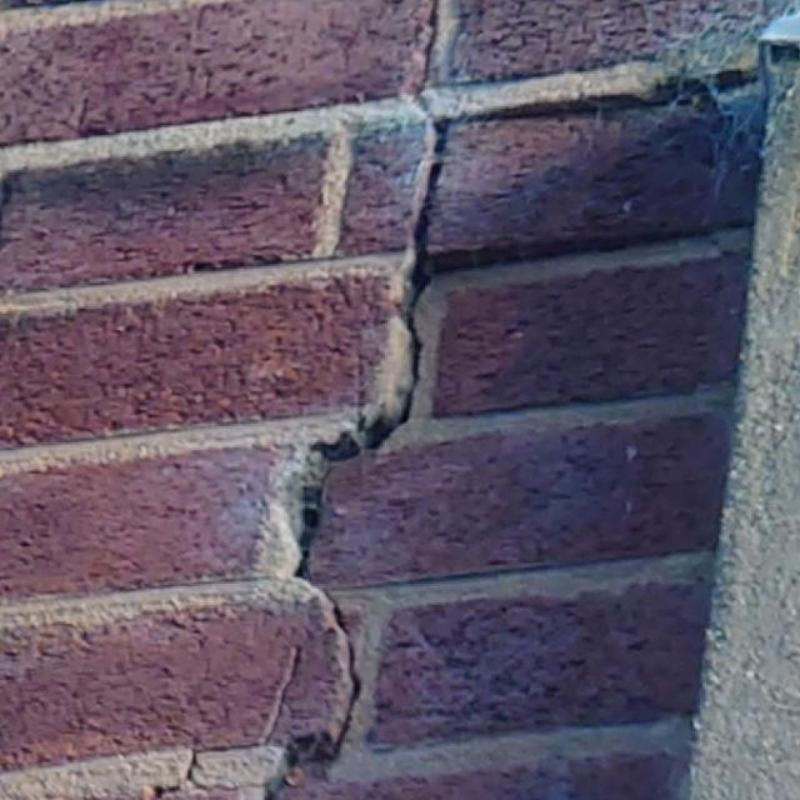crack: (254, 116, 450, 799), (150, 648, 300, 799), (451, 80, 749, 125), (428, 230, 691, 274), (416, 0, 440, 116)
